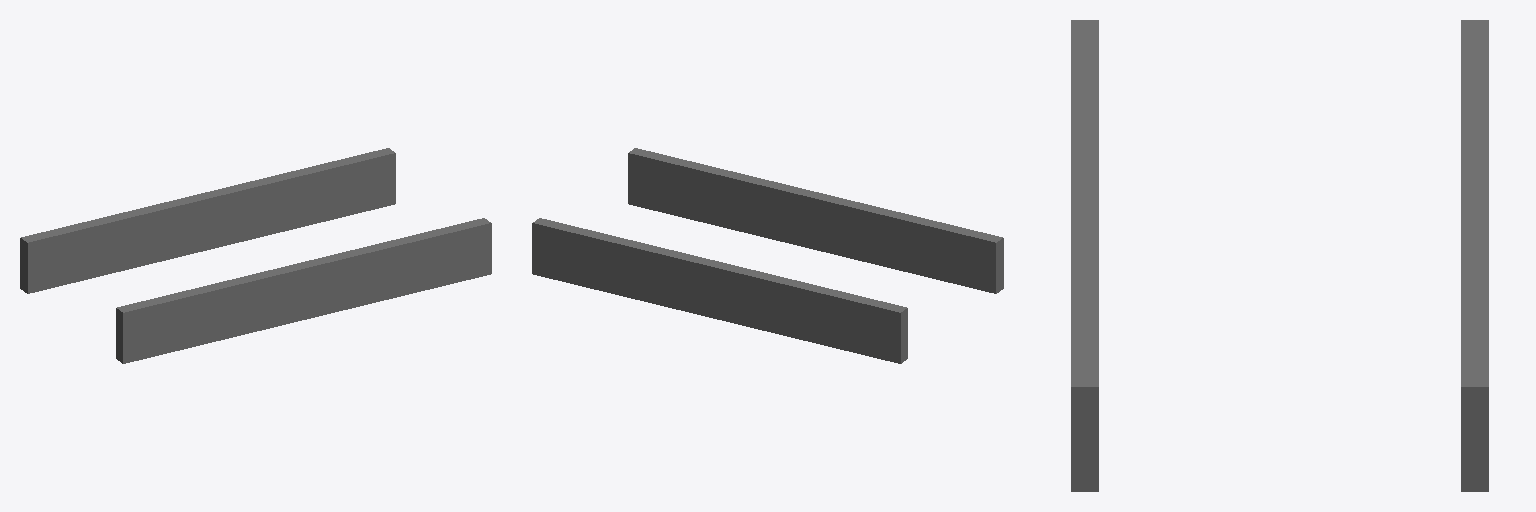
robot.urdf — stairs_terrain:
<?xml version="1.0" ?>
<robot name="stairs_terrain">
  <link name="stairs_terrain">
	  <contact>
      <lateral_friction value="1.0"/>
    </contact>
    <inertial>
      <origin rpy="0 0 0" xyz="0 0 0"/>
       <mass value=".0"/>
       <inertia ixx="0" ixy="0" ixz="0" iyy="0" iyz="0" izz="0"/>
    </inertial>
    <visual>
      <origin rpy="1.57 0 -1.57" xyz="0 0.0 0 "/>
      <geometry>
				<mesh filename="meshes/barrier.obj" scale="0.8 0.4 0.06"/>
      </geometry>
       <material name="white">
        <color rgba="0.5 0.5 0.5 1.0"/>
      </material>
    </visual>
    <collision>
      <origin rpy="1.57 0 -1.57" xyz="0 0.0 0 "/>
      <geometry>
				<mesh filename="meshes/barrier.obj" scale="0.8 0.4 0.06"/>
      </geometry>
    </collision>

    <visual>
      <origin rpy="1.57 0 -1.57" xyz="1.5 0.0 0 "/>
      <geometry>
				<mesh filename="meshes/barrier.obj" scale="0.8 0.4 0.1"/>
      </geometry>
       <material name="white">
        <color rgba="0.5 0.5 0.5 1.0"/>
      </material>
    </visual>
    <collision>
      <origin rpy="1.57 0 -1.57" xyz="1.5 0.0 0 "/>
      <geometry>
				<mesh filename="meshes/barrier.obj" scale="0.8 0.4 0.1"/>
      </geometry>
    </collision>
    <visual>
      <origin rpy="1.57 0 -1.57" xyz="3 0.0 0 "/>
      <geometry>
				<mesh filename="meshes/barrier.obj" scale="0.8 0.4 0.15"/>
      </geometry>
       <material name="white">
        <color rgba="0.5 0.5 0.5 1.0"/>
      </material>
    </visual>
    <collision>
      <origin rpy="1.57 0 -1.57" xyz="3 0.0 0 "/>
      <geometry>
				<mesh filename="meshes/barrier.obj" scale="0.8 0.4 0.15"/>
      </geometry>
    </collision>

    <visual>
      <origin rpy="0 0 0" xyz="1.5 -1.35 0 "/>
      <geometry>
        <box size="6  0.2 0.8"/>
      </geometry>
       <material name="white">
        <color rgba="0.5 0.5 0.5 1.0"/>
      </material>
    </visual>
    <collision>
      <origin rpy="0 0 0" xyz="1.5 -1.35 0 "/>
      <geometry>
        <box size="6  0.2 0.8"/>
      </geometry>
    </collision>

    <visual>
      <origin rpy="0 0 0" xyz="1.5 1.35 0 "/>
      <geometry>
        <box size="6  0.2 0.8"/>
      </geometry>
       <material name="white">
        <color rgba="0.5 0.5 0.5 1.0"/>
      </material>
    </visual>
    <collision>
      <origin rpy="0 0 0" xyz="1.5 1.35 0 "/>
      <geometry>
        <box size="6  0.2 0.8"/>
      </geometry>
    </collision>
  </link>
</robot>

--- Render facts (derived) ---
Views: 3 orthographic renders of the robot side by side, from view 1: azimuth 30°, elevation 25°; view 2: azimuth 150°, elevation 25°; view 3: azimuth 270°, elevation 25°.
Robot: stairs_terrain — 1 links, 0 joints (none); root link stairs_terrain; default pose: all joints at 0.
Visible links, largest first — view 1: stairs_terrain; view 2: stairs_terrain; view 3: stairs_terrain.
Link boxes in pixels (x1=…): stairs_terrain: x1=20, y1=148, x2=491, y2=363; stairs_terrain: x1=532, y1=148, x2=1003, y2=363; stairs_terrain: x1=1071, y1=20, x2=1488, y2=491.
Bounding box of the posed robot: 6 × 2.9 × 0.8 m (x, y, z).
0 mesh visuals loaded from 1 distinct referenced files (none loaded); not drawn: 3 (reference not matched to a file when rendering).